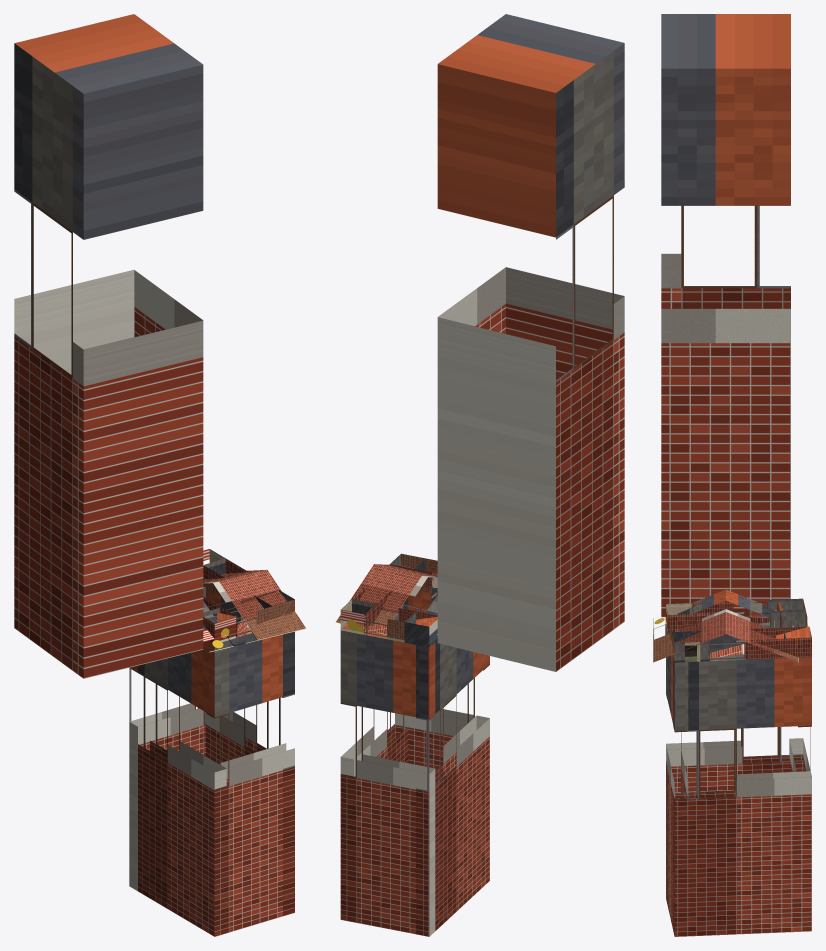
3 views of the same model, side by side, from view 1: azimuth 30°, elevation 25°; view 2: azimuth 150°, elevation 25°; view 3: azimuth 270°, elevation 25° (orthographic). The views are drawn at different scales.
Parts seen in each view (by area): view 1: 238639745__chimney_0_xb, 238639745__wall_3_xb, 238639745__wall_2_xb, 238639745__wall_0_xb, 238639745__wall_1_xb, 238639745_roof_-1_xb, 238639745__cornice_3, 238639745__cornice_0, 238639745__cornice_2; view 2: 238639745__chimney_0_xb, 238639745__wall_1_xb, 238639745__wall_2_xb, 238639745__wall_3_xb, 238639745_roof_1_xb, 238639745__wall_0_xb, 238639745__cornice_1, 238639745__cornice_2, 238639745__cornice_0, 238639745__cornice_3; view 3: 238639745__chimney_0_xb, 238639745__wall_0_xb, 238639745__wall_3_xb, 238639745__wall_2_xb, 238639745__cornice_0, 238639745__cornice_2, 238639745_roof_-1_xb, 238639745_roof_1_xb, 238639745__cornice_3, 238639745__wall_1_xb.
Boxes of the visible parts, <box> form: 238639745__chimney_0_xb: <box>14,14,203,678</box>; 238639745__wall_3_xb: <box>206,633,294,936</box>; 238639745__wall_2_xb: <box>129,641,226,936</box>; 238639745__wall_0_xb: <box>197,588,294,916</box>; 238639745__wall_1_xb: <box>129,586,205,891</box>; 238639745_roof_-1_xb: <box>203,570,306,652</box>; 238639745__cornice_3: <box>203,590,291,641</box>; 238639745__cornice_0: <box>203,549,294,615</box>; 238639745__cornice_2: <box>203,597,237,642</box>; 238639745__chimney_0_xb: <box>437,14,624,671</box>; 238639745__wall_1_xb: <box>340,630,435,936</box>; 238639745__wall_2_xb: <box>416,640,489,936</box>; 238639745__wall_3_xb: <box>395,580,489,770</box>; 238639745_roof_1_xb: <box>335,564,437,645</box>; 238639745__wall_0_xb: <box>340,598,408,776</box>; 238639745__cornice_1: <box>340,599,437,646</box>; 238639745__cornice_2: <box>404,591,437,647</box>; 238639745__cornice_0: <box>340,554,425,634</box>; 238639745__cornice_3: <box>389,554,437,592</box>; 238639745__chimney_0_xb: <box>661,14,790,617</box>; 238639745__wall_0_xb: <box>673,654,811,936</box>; 238639745__wall_3_xb: <box>666,626,688,936</box>; 238639745__wall_2_xb: <box>666,622,804,792</box>; 238639745__cornice_0: <box>672,626,811,662</box>; 238639745__cornice_2: <box>666,598,805,633</box>; 238639745_roof_-1_xb: <box>653,590,725,662</box>; 238639745_roof_1_xb: <box>726,589,798,662</box>; 238639745__cornice_3: <box>666,603,700,662</box>; 238639745__wall_1_xb: <box>789,725,811,771</box>.
Size of the model in its own units: 0.2736 by 1.05 by 0.1838.
1 material, 1 textured.
